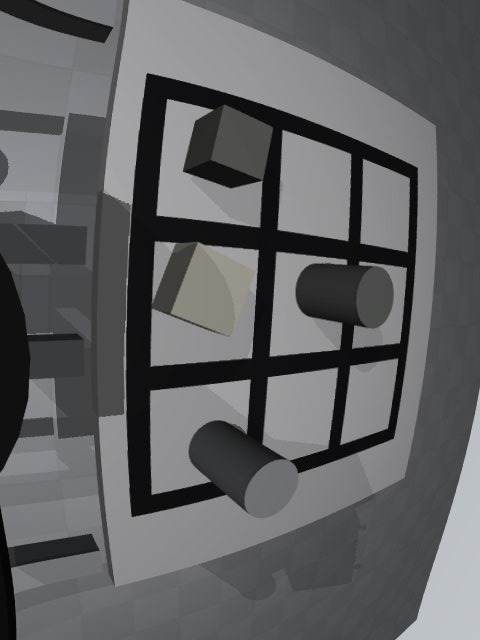can: (189, 420, 299, 518)
cube: (183, 104, 273, 188)
cylinder: (296, 263, 394, 328)
foam: (151, 242, 255, 337)
